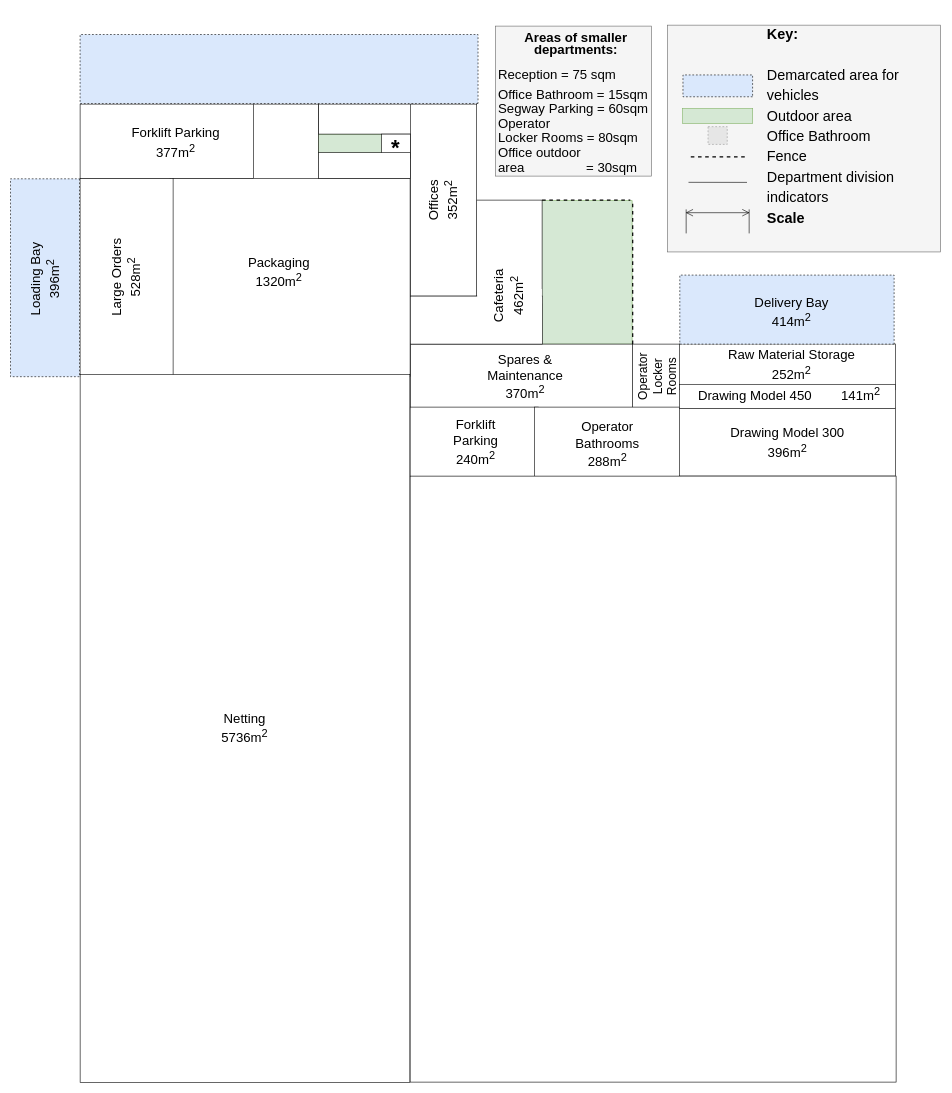
Image size: 952x1093. Some labels were removed from this diagram. Grey dashed boxes stand in for pictures. The centre of each missing label's shape, as x and y in pixels:
"10m" belongs at (x=717, y=221).
"Entrance and Parking 792m 2" belongs at (x=279, y=69).
"Galvanising 8181m 2" belongs at (x=653, y=779).
"Outdoor Break Area 360m 2" belongs at (x=586, y=272).
"Reception" belongs at (x=366, y=119).
"Segways" belongs at (x=364, y=165).
"Small Orders 143m 2" belongs at (x=285, y=143).
